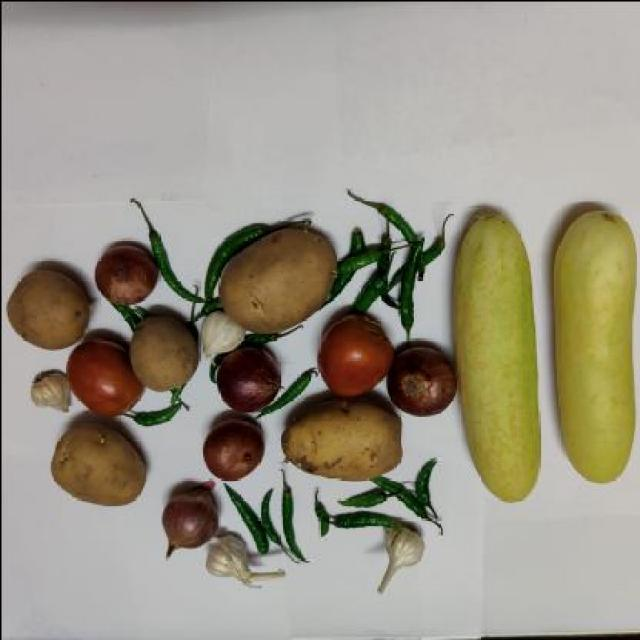Pepper: (333, 193, 441, 325), (146, 213, 206, 309), (346, 472, 443, 525), (222, 482, 282, 556), (274, 474, 308, 563), (300, 481, 349, 539), (130, 394, 188, 424)
garlic: (360, 518, 434, 592), (202, 534, 290, 591), (20, 361, 66, 419), (193, 312, 241, 361)
onion: (154, 481, 218, 564), (389, 343, 456, 417), (93, 238, 156, 308), (198, 415, 265, 480), (214, 348, 278, 409)
potato: (227, 225, 336, 327), (275, 400, 403, 482), (0, 252, 91, 351), (43, 425, 142, 509), (128, 314, 195, 391)
tomato: (316, 312, 398, 398), (64, 334, 144, 420)
